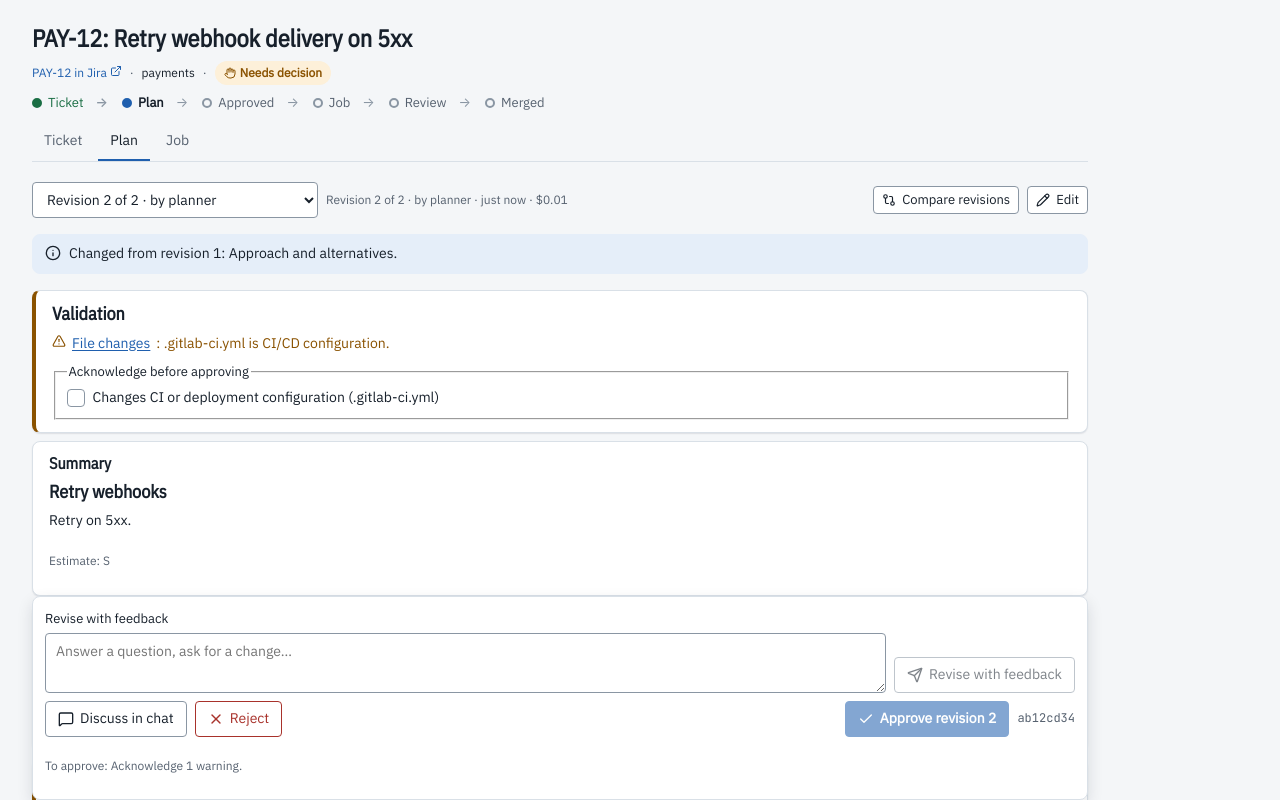
Scenario: Plan tab › shows validation, needs acknowledgements before Approve, and approves exactly what was shown
Check: the button "Approve revision 2" is disabled, box [845,700,1009,736]
Check: the text "To approve: Acknowledge 1 warning." is shown, box [45,757,242,772]
Click the checkbox named "Changes CI or deployment configuration (.gitlab-ci.yml)" at [76, 398], box [66,389,84,407]
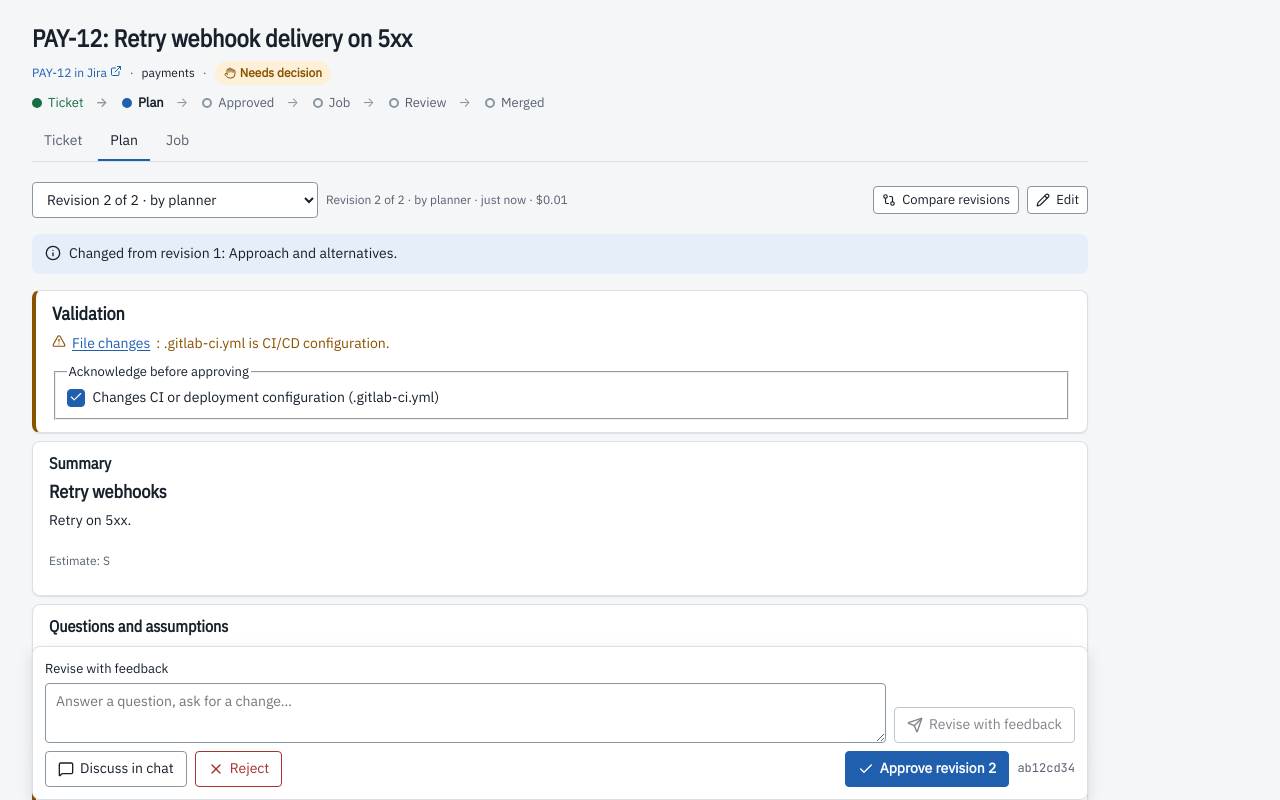
Check: the text "To approve:" is gone
Click the button "Approve revision 2" at [927, 769], box [845,751,1009,787]
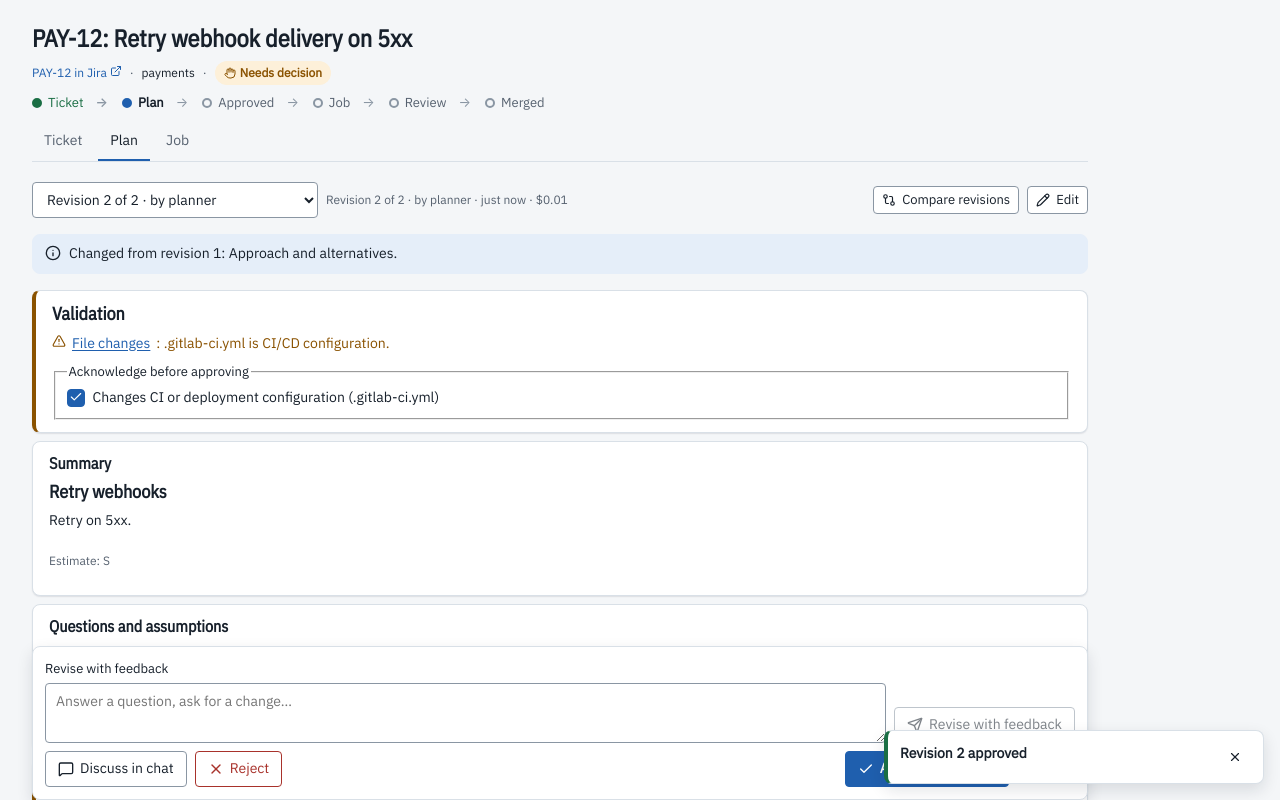
Check: the text "Revision 2 approved" is shown, box [900,744,1027,762]
